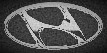Hyundai: (3, 1, 107, 53)
